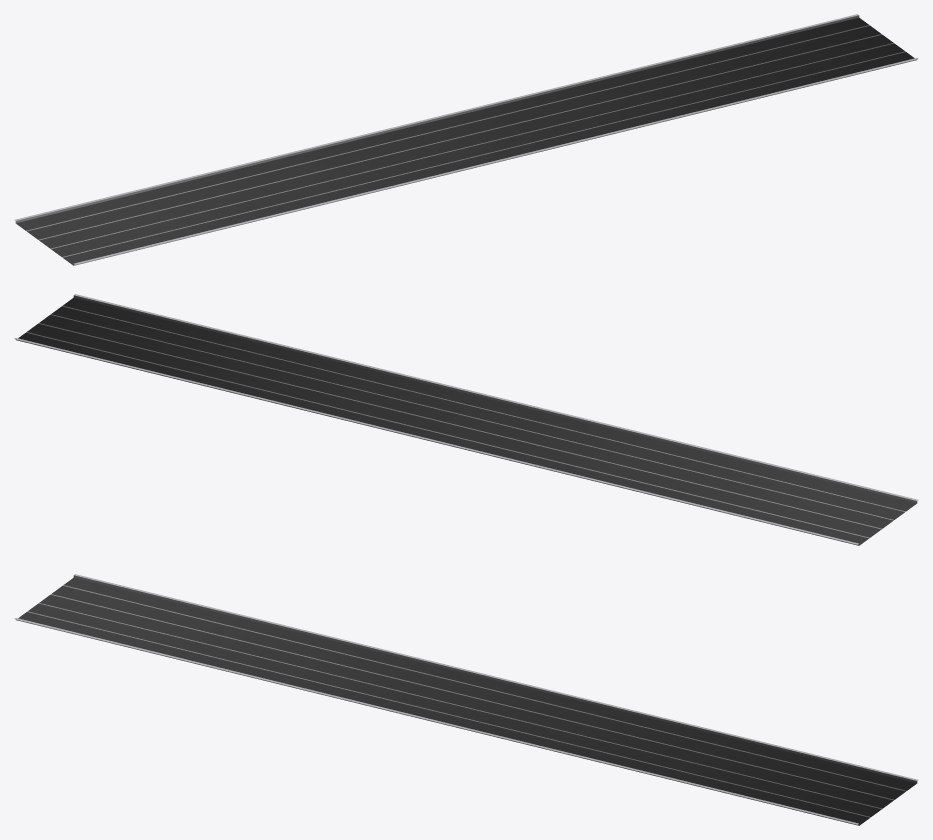
File: rua5x5.glb
3 renders of one model, top to bottom at view 1: azimuth 30°, elevation 25°; view 2: azimuth 150°, elevation 25°; view 3: azimuth 330°, elevation 25°, orthographic.
Visible parts, largest first — view 1: rua5x5; view 2: rua5x5; view 3: rua5x5.
Part boxes in pixels (box(x1,y1,x2,y2)): rua5x5: box(14, 14, 918, 265); rua5x5: box(14, 294, 918, 545); rua5x5: box(14, 574, 918, 825).
Size of the model in its own units: 79.34 by 0.205 by 10.
1 material, 1 textured.
